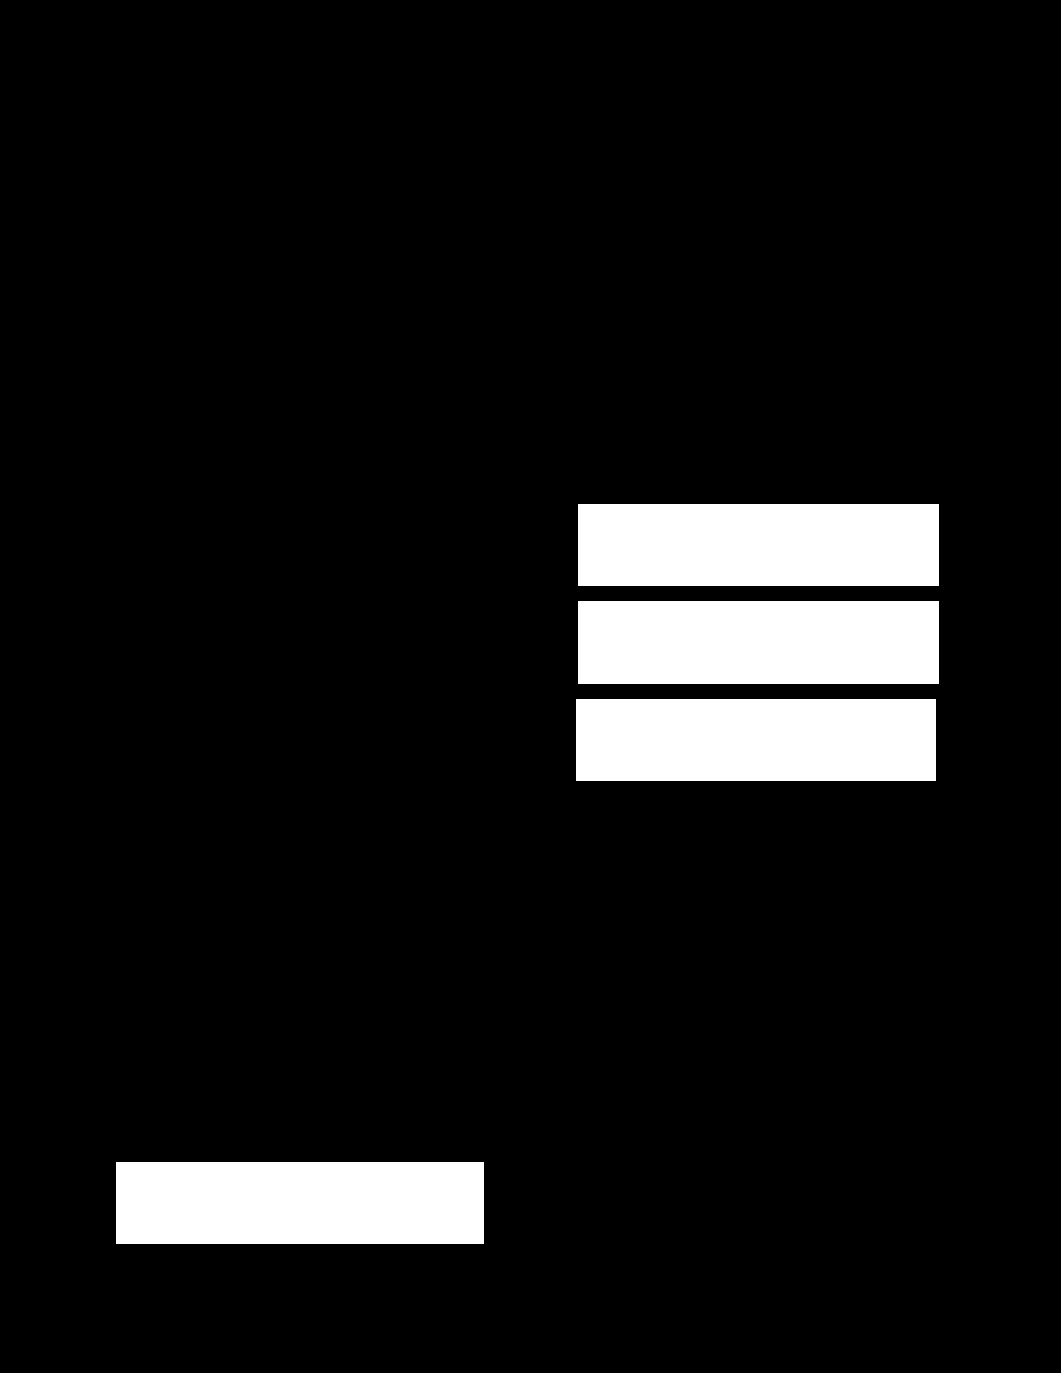table: (578, 601, 938, 683), (116, 1162, 483, 1243), (578, 504, 938, 585), (576, 699, 935, 780)
